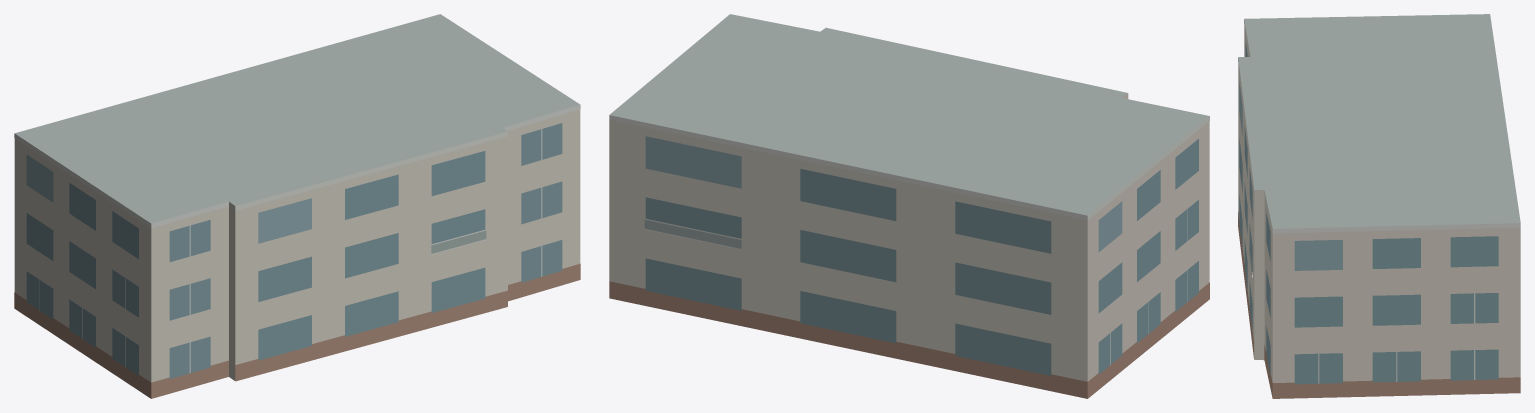
The model's file is survey-upis-32478216.glb.
3 renders of one model, left to right at view 1: azimuth 30°, elevation 25°; view 2: azimuth 150°, elevation 25°; view 3: azimuth 270°, elevation 25°, orthographic. The views are drawn at different scales.
Visible parts, largest first — view 1: survey-upis-32478216.tmp; view 2: survey-upis-32478216.tmp; view 3: survey-upis-32478216.tmp.
Boxes of the visible parts, x1,y1,x2,y2 form: survey-upis-32478216.tmp: [14, 14, 580, 398]; survey-upis-32478216.tmp: [609, 14, 1209, 398]; survey-upis-32478216.tmp: [1238, 14, 1520, 398].
Size of the model in its own units: 24.81 by 9.15 by 13.79.
